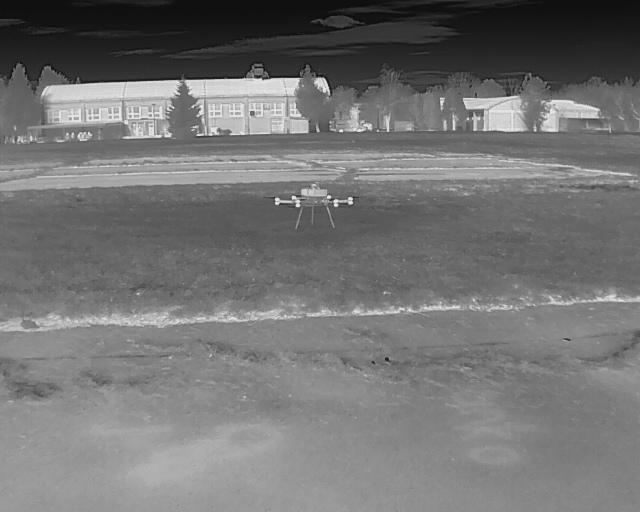drone: (257, 175, 364, 238)
